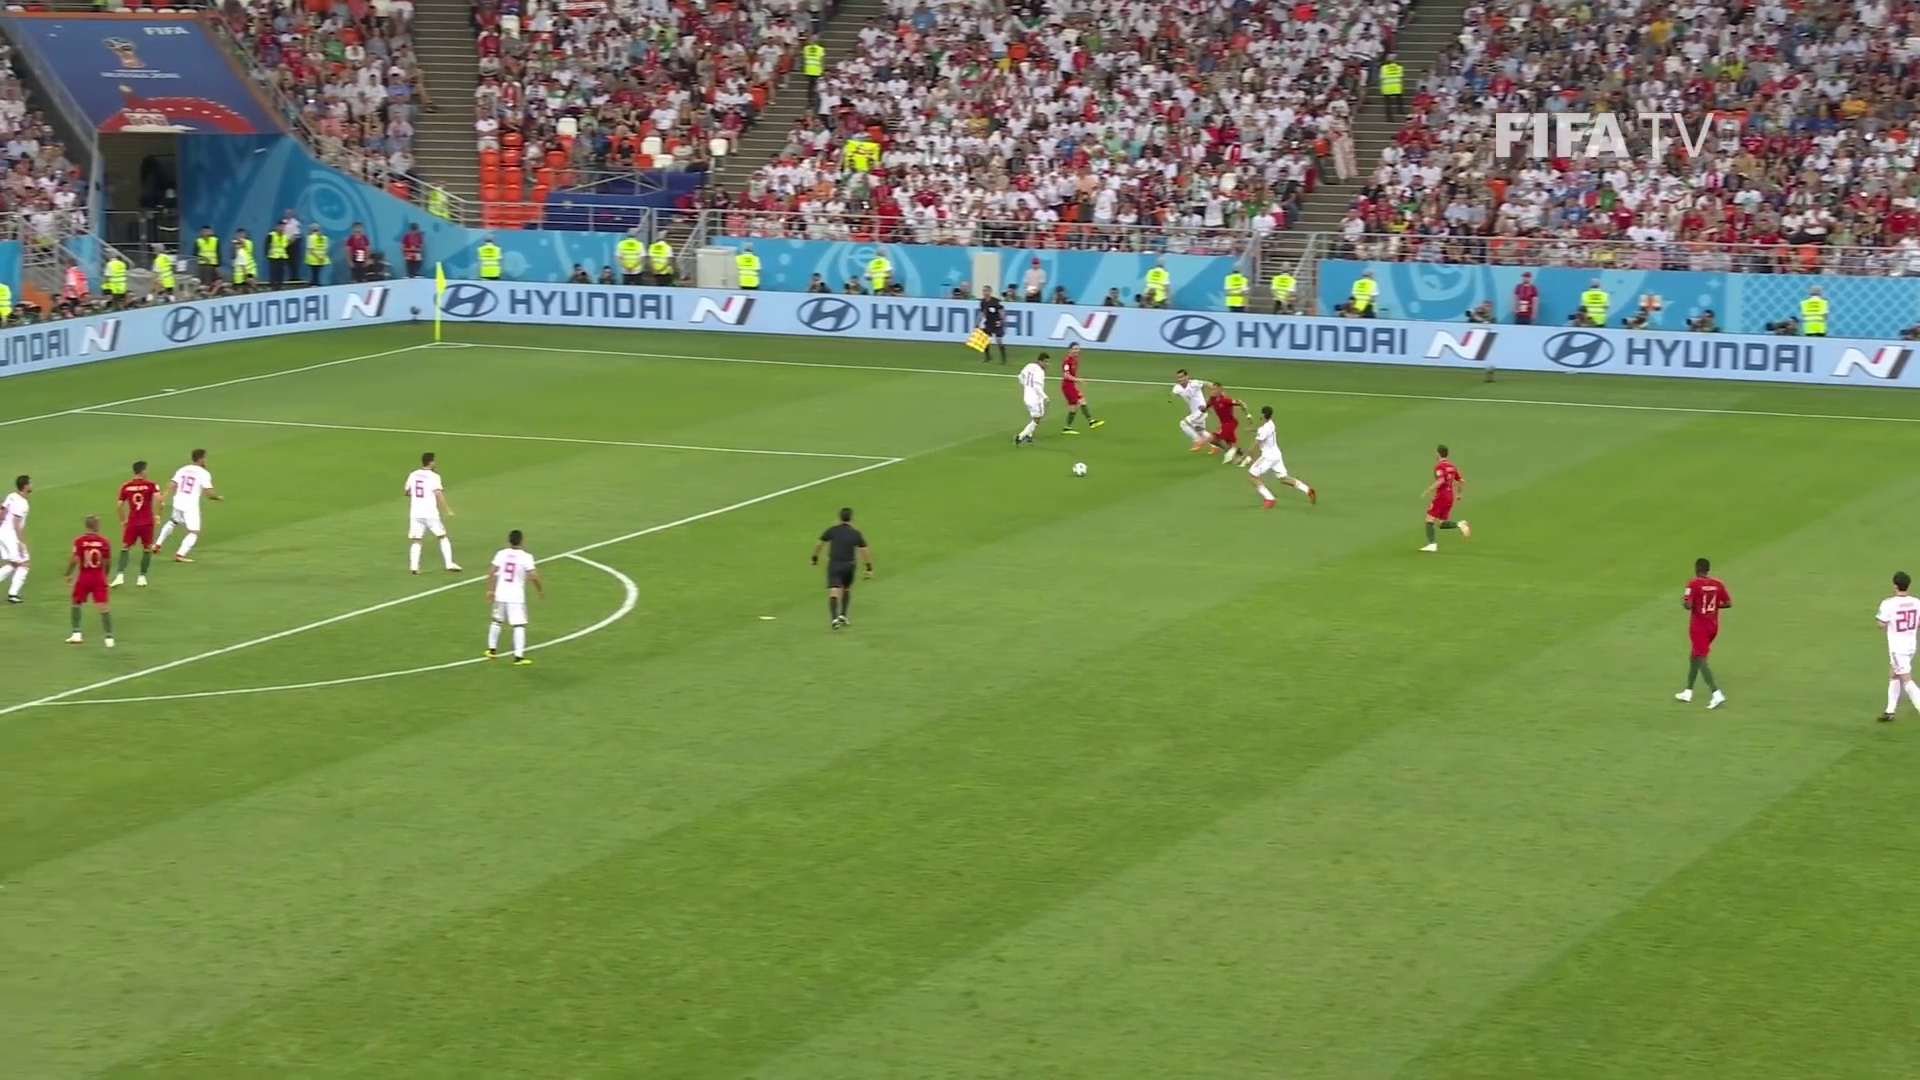ball: (1072, 462, 1086, 476)
person: (480, 529, 540, 665), (1244, 404, 1319, 506), (404, 452, 464, 573), (1682, 556, 1728, 708), (1876, 569, 1920, 723), (67, 516, 116, 646), (162, 450, 215, 559), (112, 460, 157, 585), (1422, 443, 1468, 551), (1203, 384, 1250, 465), (1170, 370, 1219, 448), (1064, 340, 1101, 435), (1016, 354, 1051, 443), (14, 471, 35, 601)
